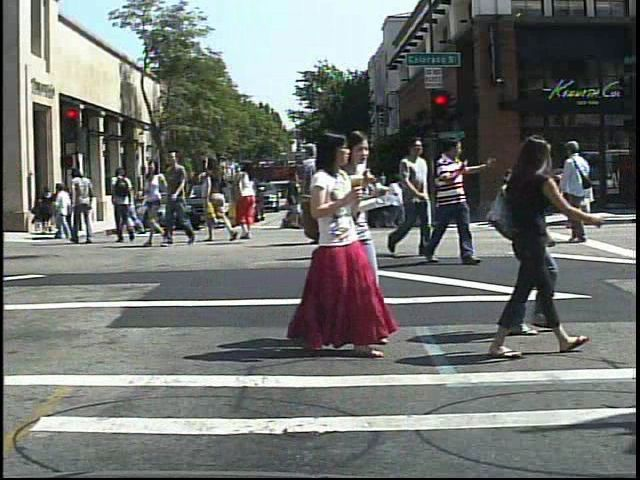person: (485, 128, 592, 366), (300, 125, 391, 359), (480, 130, 577, 339), (431, 130, 489, 267), (385, 136, 433, 261), (337, 135, 383, 263), (564, 135, 605, 249), (161, 147, 199, 251), (302, 141, 338, 249), (344, 132, 377, 247), (141, 158, 176, 251), (323, 147, 353, 248), (199, 153, 233, 242), (67, 165, 98, 246), (108, 163, 138, 243), (236, 159, 262, 240), (505, 161, 532, 233), (322, 162, 343, 230), (55, 183, 75, 234)
